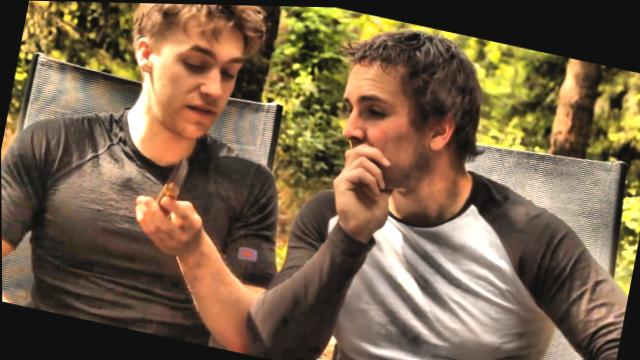knife: (124, 139, 208, 238)
